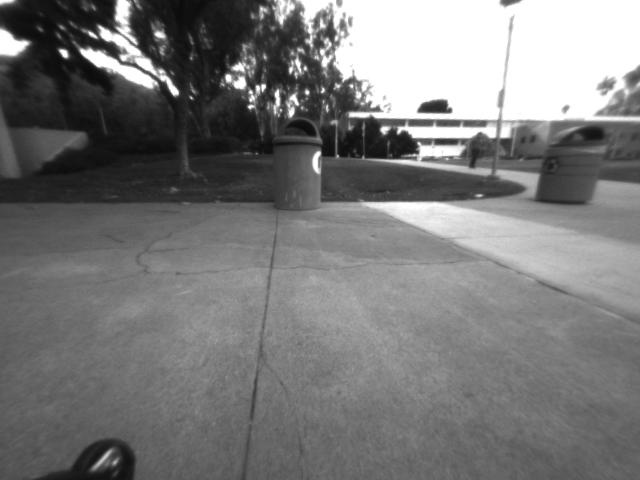trashcan: (268, 112, 327, 214)
